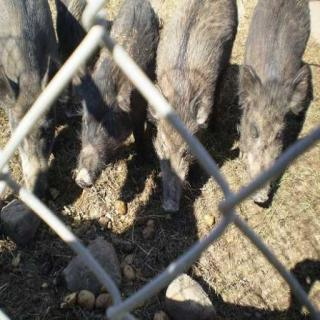Pig: (151, 0, 225, 238), (234, 0, 314, 205), (66, 0, 146, 183), (0, 0, 62, 196)
